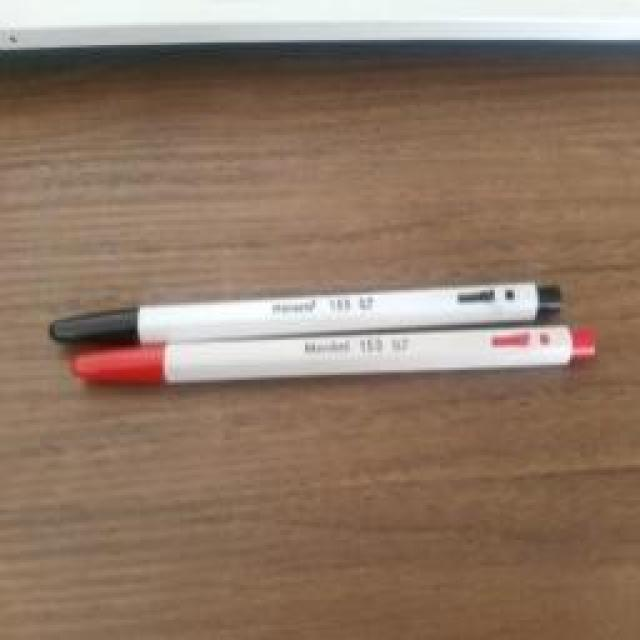pen: (40, 283, 565, 353)
